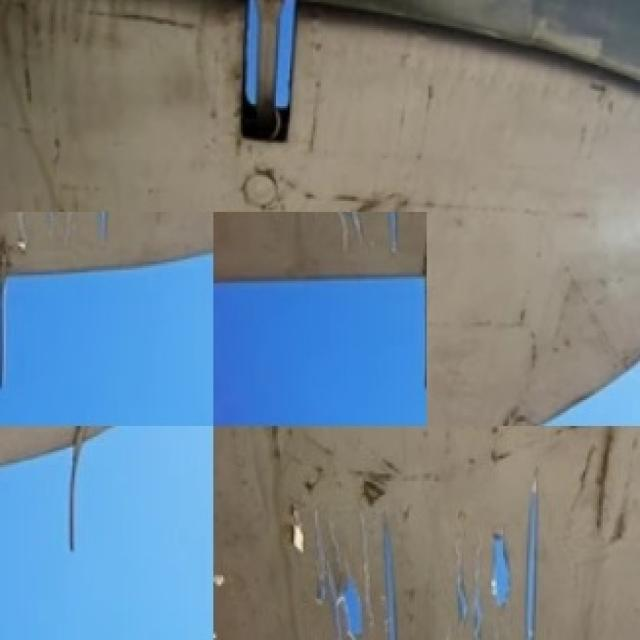crack: (306, 461, 541, 640)
